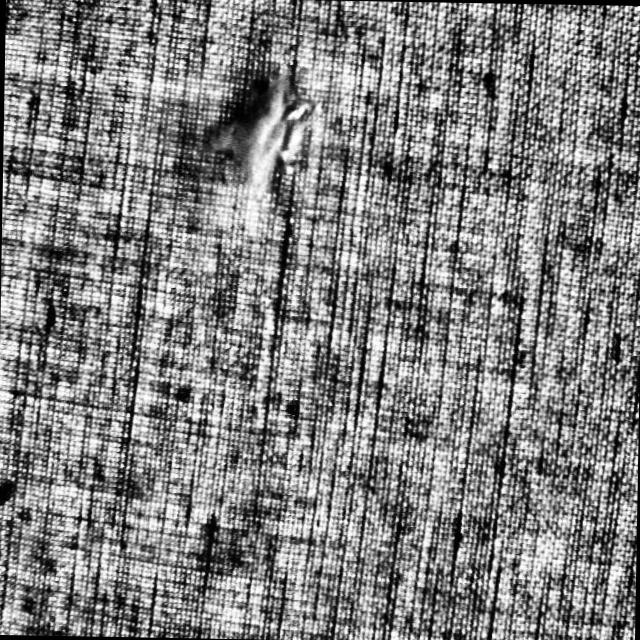gray stitch: (204, 64, 314, 195)
